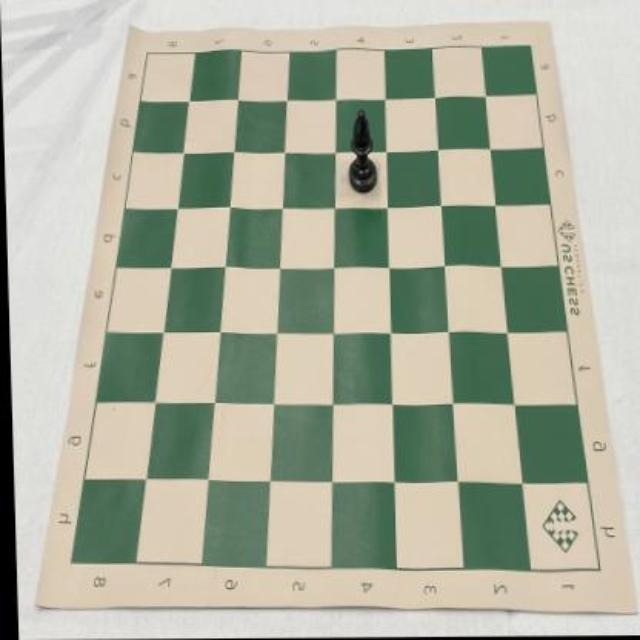black-bishop: (346, 109, 378, 195)
